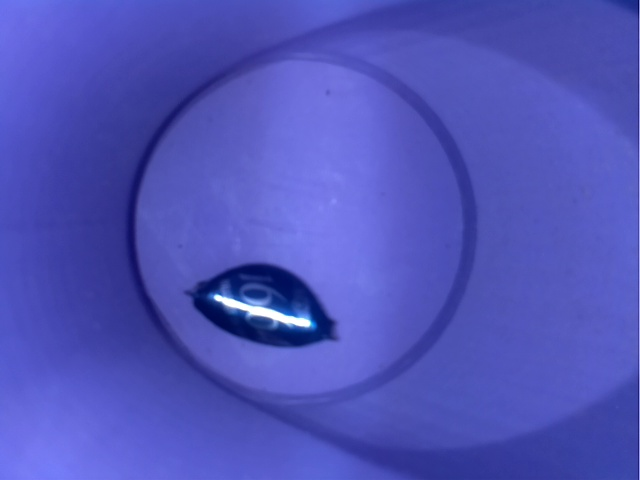capsule: (176, 243, 349, 358)
